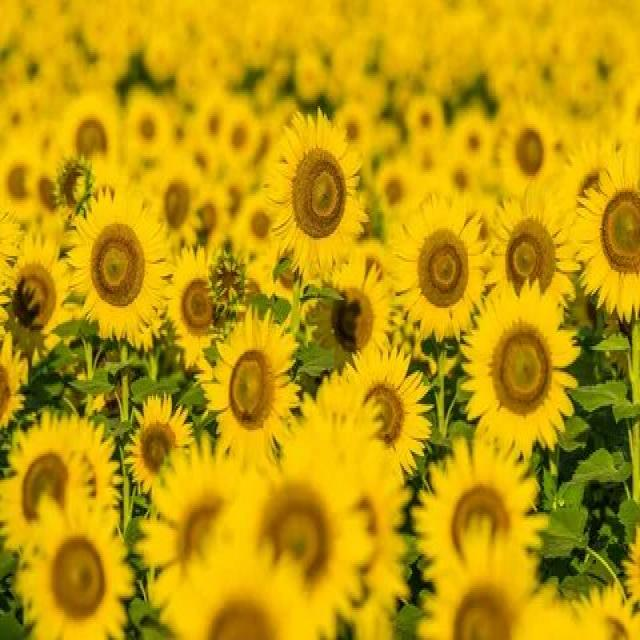sunflower: (461, 270, 580, 454), (412, 448, 552, 598), (10, 478, 134, 640), (268, 102, 371, 274), (382, 180, 494, 334), (64, 184, 169, 344), (203, 308, 297, 462), (329, 346, 434, 476), (490, 174, 578, 326), (576, 146, 640, 320), (125, 398, 198, 496), (498, 102, 562, 200)
